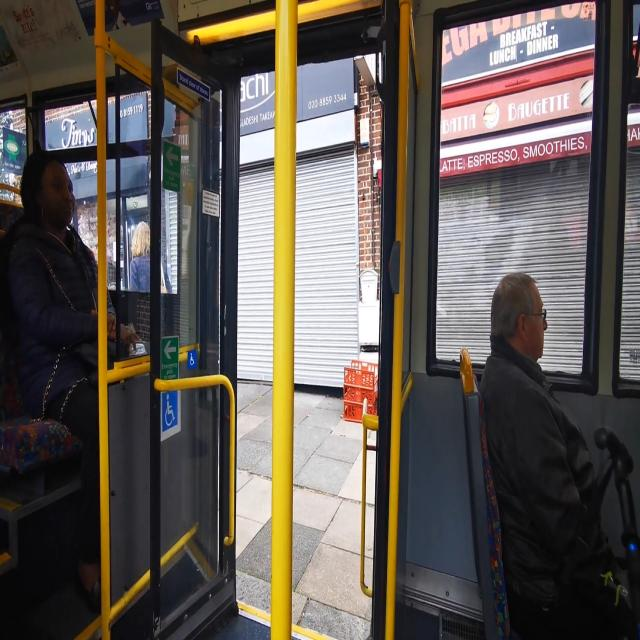bus-door: (156, 21, 402, 640)
